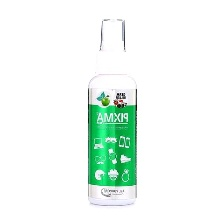cleaning_solution: (83, 11, 140, 211)
